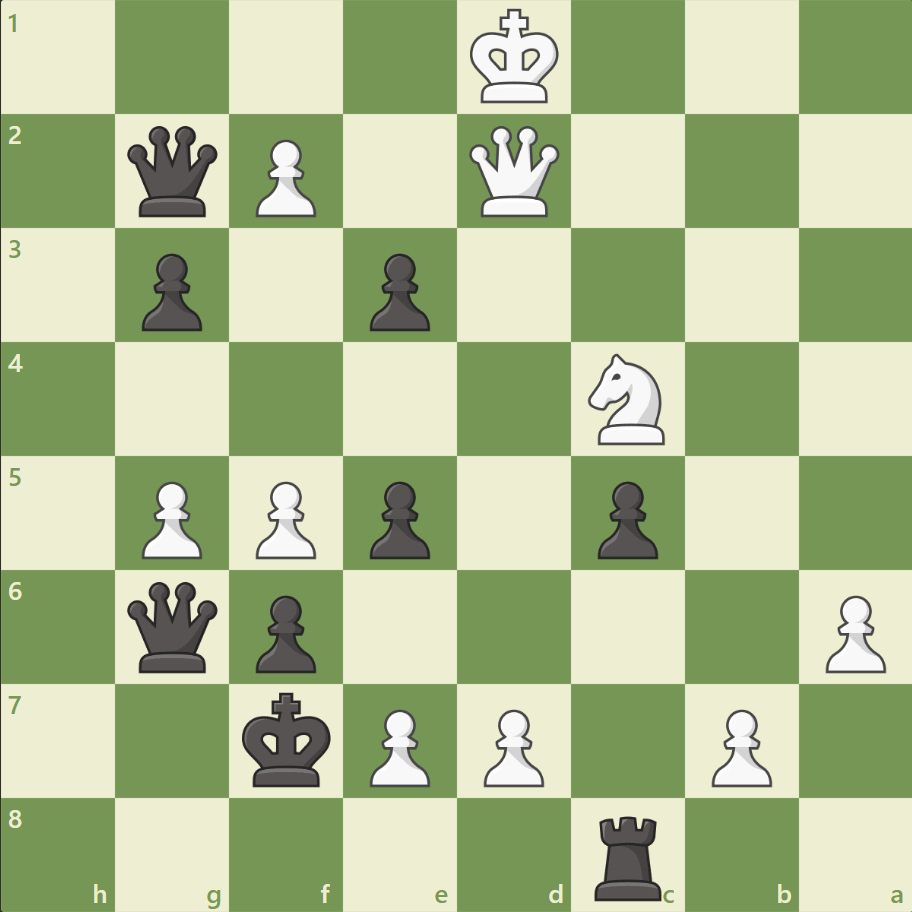K: (465, 4, 565, 112)
N: (579, 348, 676, 450)
P: (701, 700, 776, 791), (474, 700, 549, 791), (247, 473, 322, 564), (133, 473, 208, 564), (247, 132, 322, 223), (361, 700, 435, 791), (815, 586, 889, 677)
Q: (464, 122, 563, 222)
k: (238, 685, 338, 793)
p: (247, 586, 322, 677), (133, 246, 208, 337), (588, 473, 662, 564), (361, 473, 435, 564), (361, 246, 435, 337)
q: (124, 576, 223, 676), (124, 122, 223, 222)
r: (587, 806, 670, 904)
